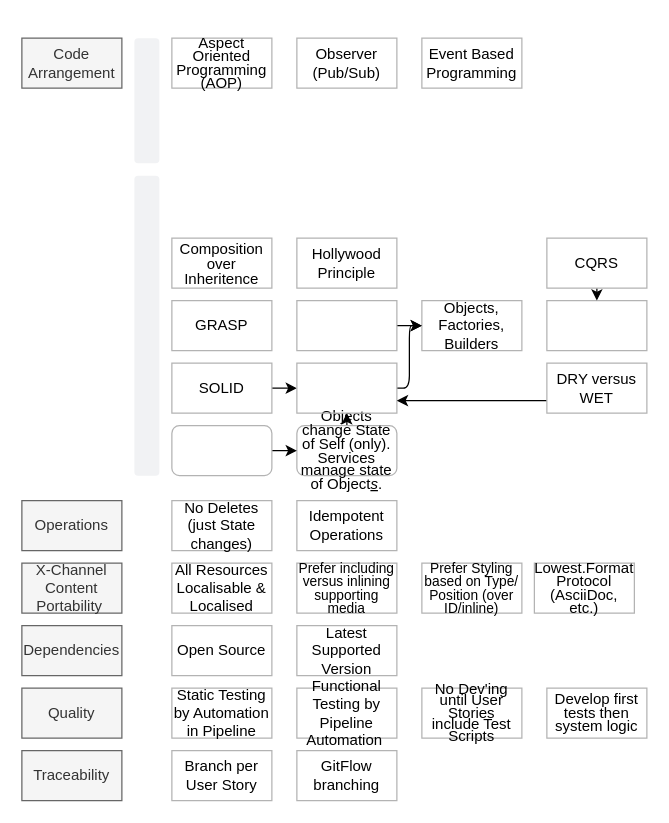
This 669x823 diagram has some shape labels left out. Here are the shapes that lost their labels. From the top down, the centre of each, then its label:
At (146,100): "Less Common".
At (146,325): "Intermediate".
At (346,325): "Dependency Injection".
At (596,325): "Command Pattern".
At (346,387): "Services".
At (221,450): "Correct applicatoin of OO".
